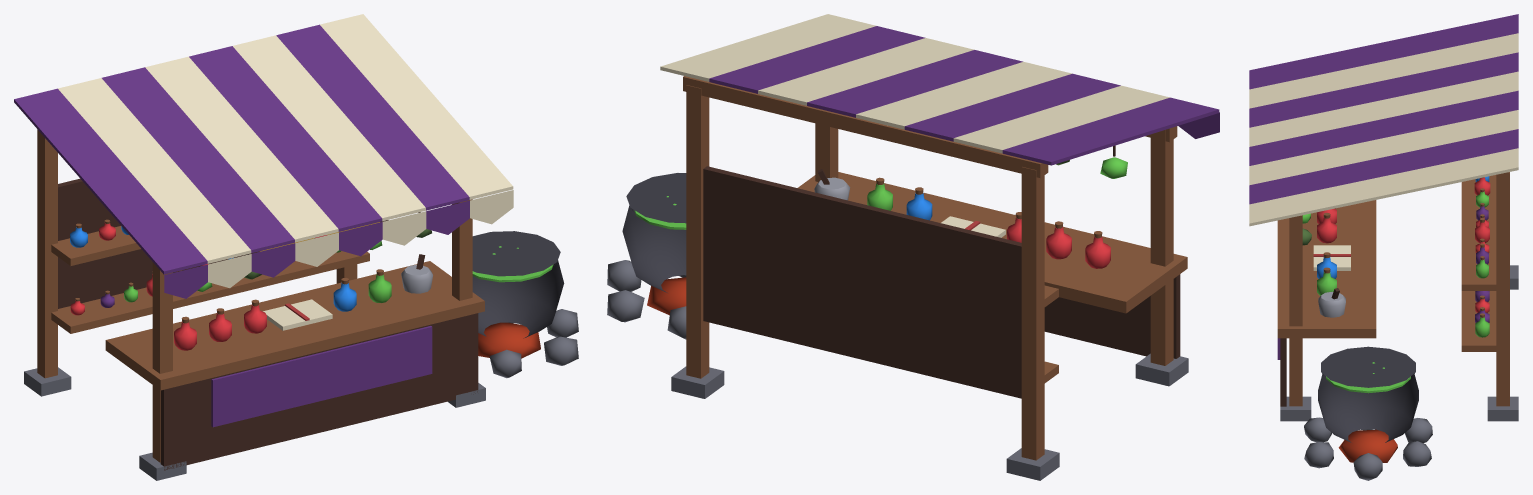
The model's file is alchemy_stall.glb.
The picture shows the model from 3 angles, left to right: view 1: azimuth 30°, elevation 25°; view 2: azimuth 150°, elevation 25°; view 3: azimuth 270°, elevation 25°; orthographic projection. The views are drawn at different scales.
Parts seen in each view (by area): view 1: pad; view 2: pad; view 3: pad.
Boxes of the visible parts, x1,y1,x2,y2 form: pad: (14,14,578,480); pad: (607,14,1219,480); pad: (1249,14,1518,480).
Size of the model in its own units: 4.8 by 2.82 by 2.61.
